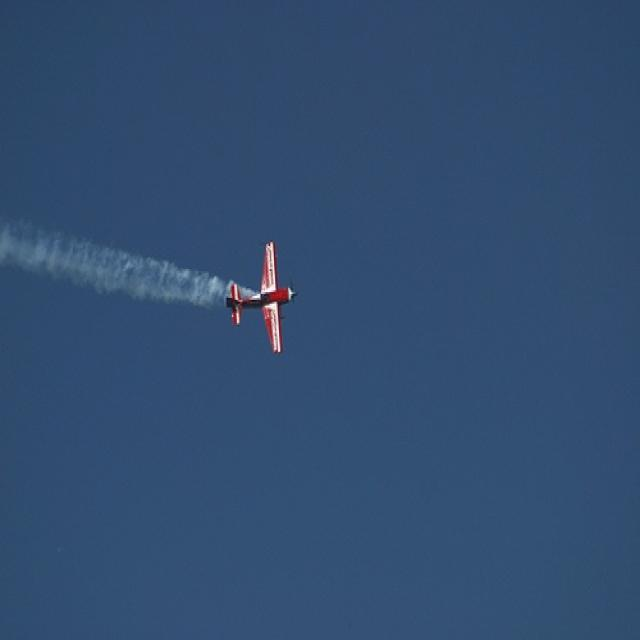aeroplane: (219, 240, 299, 358)
